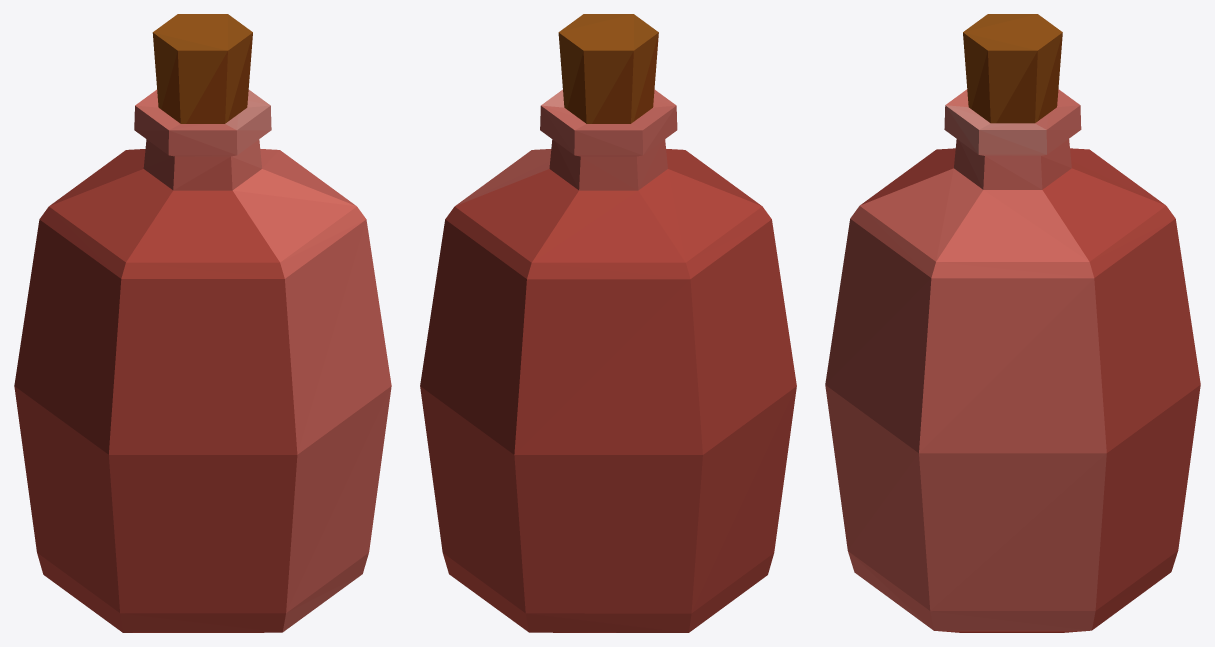
The model's file is prop_bottle_potion_health_6.fbx.
The picture shows the model from 3 angles, left to right: view 1: azimuth 30°, elevation 25°; view 2: azimuth 150°, elevation 25°; view 3: azimuth 270°, elevation 25°; orthographic projection.
Parts seen in each view (by area): view 1: prop_bottle_potion_health_6; view 2: prop_bottle_potion_health_6; view 3: prop_bottle_potion_health_6.
Boxes of the visible parts, box(x1,y1,x2,y2) form: prop_bottle_potion_health_6: box(14, 14, 391, 632); prop_bottle_potion_health_6: box(420, 14, 796, 632); prop_bottle_potion_health_6: box(825, 14, 1200, 632).
Size of the model in its own units: 0.604 by 1.15 by 0.6967.
